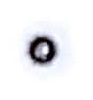cancer: (11, 18, 78, 82)
